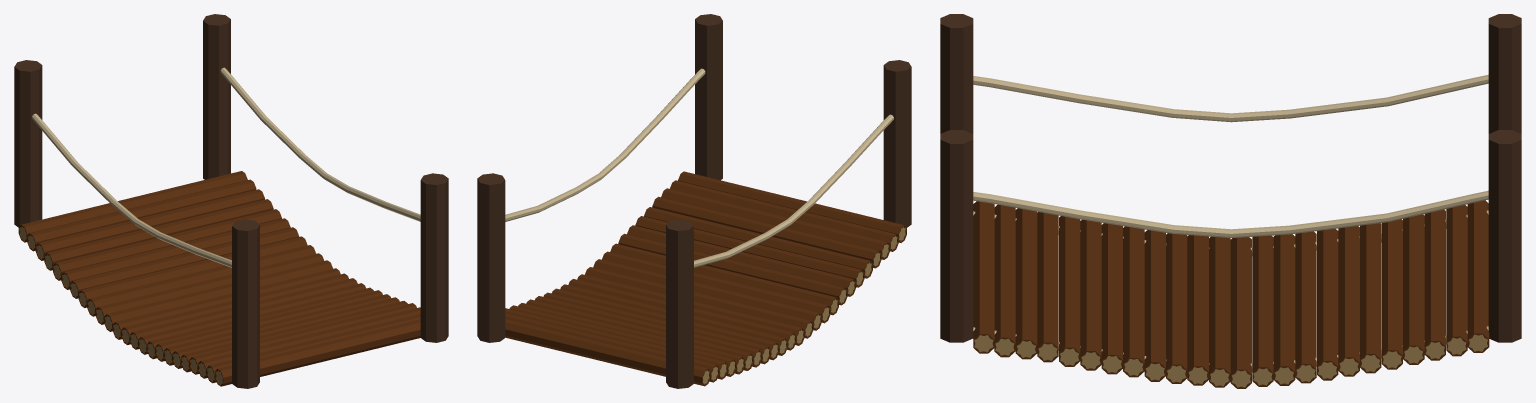
The model's file is Bridge.fbx.
3 renders of one model, left to right at view 1: azimuth 30°, elevation 25°; view 2: azimuth 150°, elevation 25°; view 3: azimuth 270°, elevation 25°, orthographic. The views are drawn at different scales.
Visible parts, largest first — view 1: pCube73, pCube72; view 2: pCube73, pCube72; view 3: pCube73, pCube72.
Boxes of the visible parts, x1=… form: pCube73: x1=18, y1=171, x2=420, y2=386; pCube72: x1=14, y1=14, x2=448, y2=388; pCube73: x1=505, y1=171, x2=906, y2=386; pCube72: x1=477, y1=14, x2=911, y2=388; pCube73: x1=973, y1=200, x2=1489, y2=388; pCube72: x1=940, y1=14, x2=1521, y2=371.
Size of the model in its own units: 1.17 by 0.9742 by 2.12.
